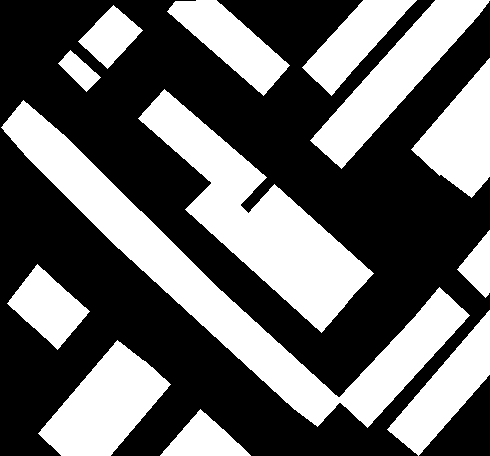parkingspot: (1, 100, 341, 426), (310, 0, 489, 168), (185, 181, 347, 332), (337, 287, 469, 427), (247, 184, 373, 303), (138, 89, 266, 206), (387, 310, 490, 455), (38, 340, 145, 456), (167, 0, 289, 95), (302, 0, 416, 95), (62, 361, 170, 456), (411, 57, 490, 175), (439, 113, 490, 197), (78, 5, 142, 68), (7, 264, 65, 327), (32, 288, 89, 349), (159, 409, 227, 456), (457, 229, 490, 297), (58, 50, 100, 91), (204, 431, 250, 456)
